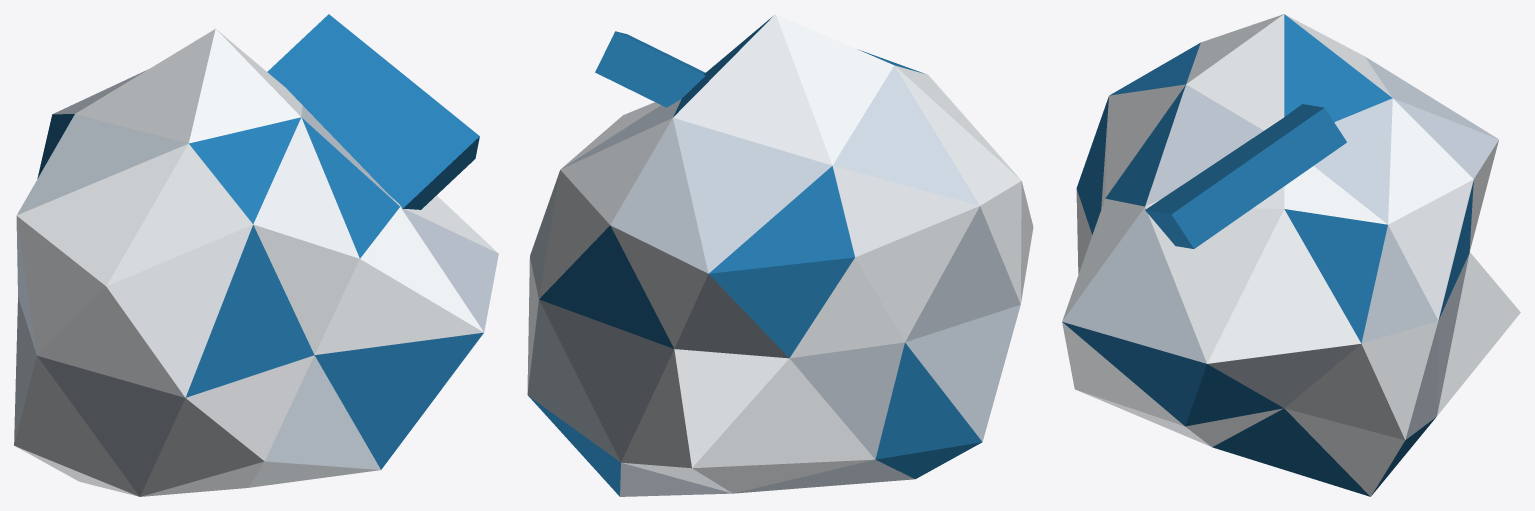
File: litter_box.glb
3 views of the same model, side by side, from view 1: azimuth 30°, elevation 25°; view 2: azimuth 150°, elevation 25°; view 3: azimuth 270°, elevation 25° (orthographic). The views are drawn at different scales.
Parts seen in each view (by area): view 1: litter_box; view 2: litter_box; view 3: litter_box.
Part boxes in pixels (x1=…): litter_box: x1=14, y1=14, x2=498, y2=496; litter_box: x1=527, y1=14, x2=1033, y2=496; litter_box: x1=1062, y1=14, x2=1520, y2=496.
Bounding box in the file's own units: 0.4646 × 0.4551 × 0.4355.
